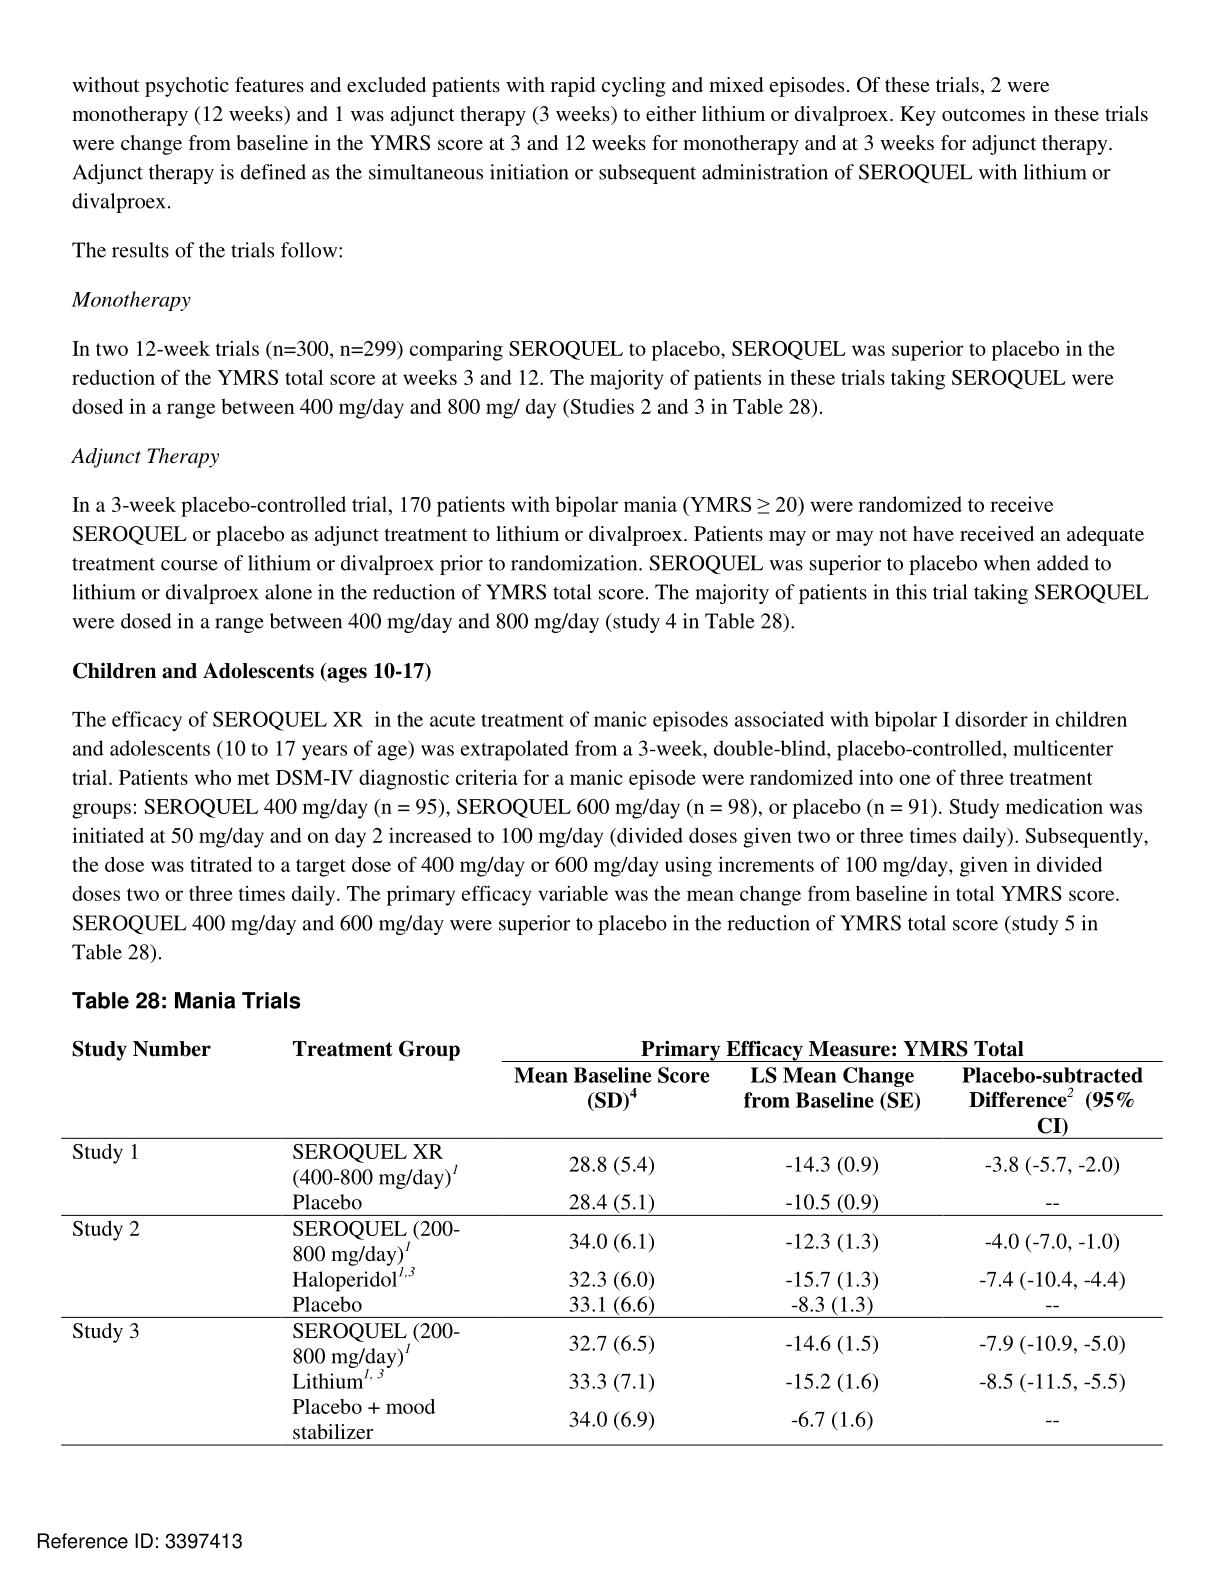partial_lined_merged_cells: (59, 1031, 1166, 1448)
